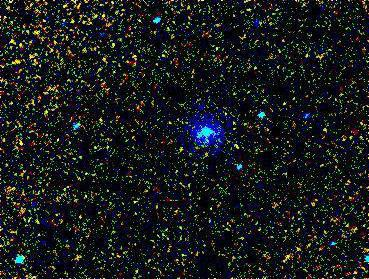star: (169, 136, 199, 166)
